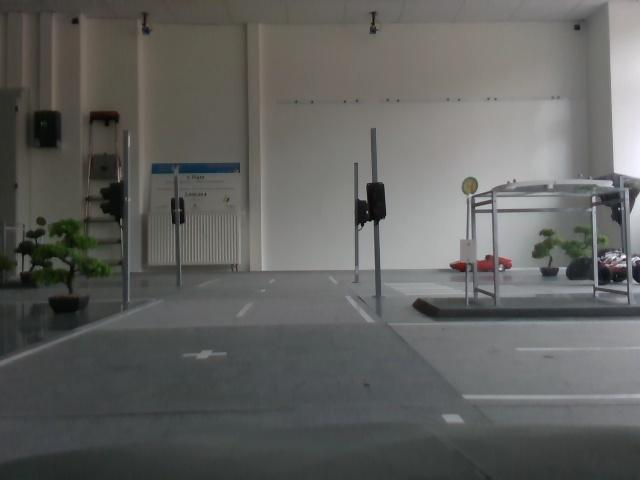car: (454, 252, 512, 273)
potted plant: (33, 216, 105, 322), (573, 226, 606, 282), (540, 226, 566, 282)
traffic light: (365, 178, 395, 226), (104, 181, 122, 229)
